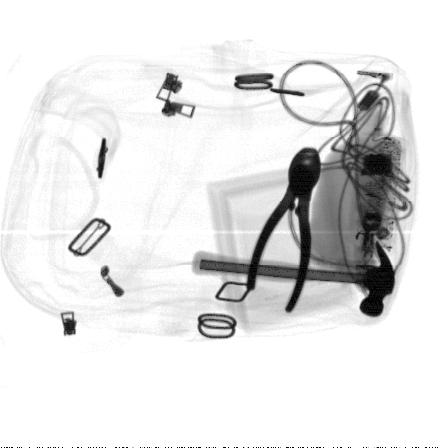Hammer: (192, 240, 396, 317)
Pliers: (247, 146, 321, 315)
